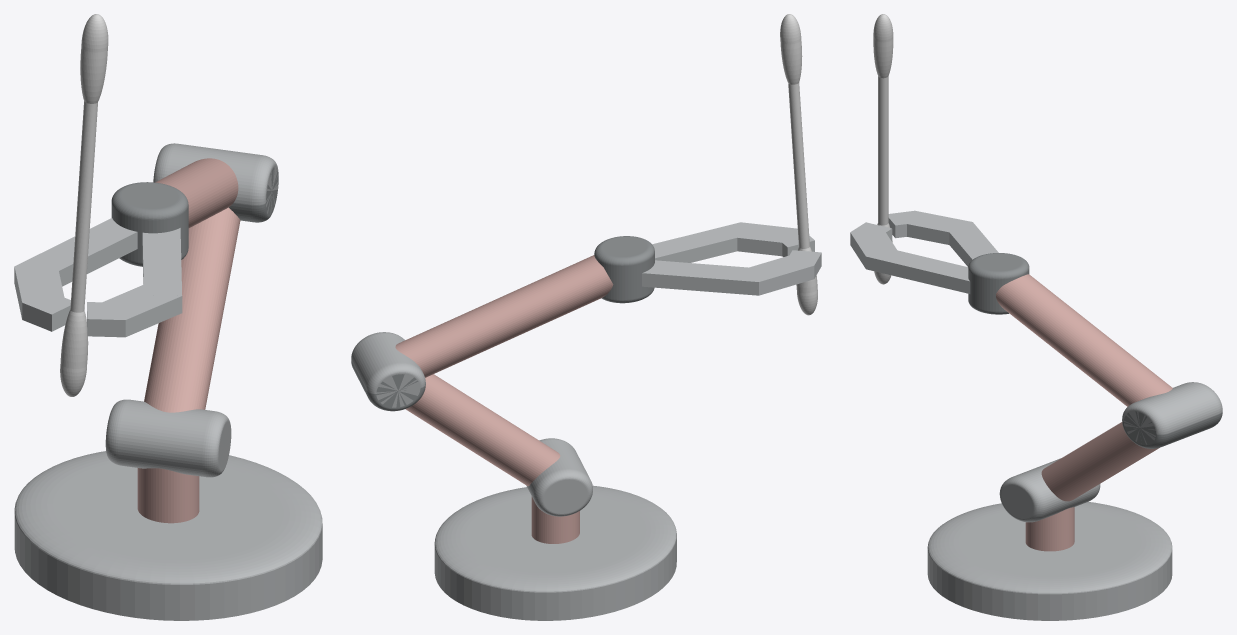
The model's file is 3D_bras.glb.
The picture shows the model from 3 angles, left to right: view 1: azimuth 30°, elevation 25°; view 2: azimuth 150°, elevation 25°; view 3: azimuth 270°, elevation 25°; orthographic projection. The views are drawn at different scales.
Visible parts, largest first — view 1: Mesh_Mesh_head_geo.001_lambert2SG.001; view 2: Mesh_Mesh_head_geo.001_lambert2SG.001; view 3: Mesh_Mesh_head_geo.001_lambert2SG.001.
Boxes of the visible parts, x1,y1,x2,y2 form: Mesh_Mesh_head_geo.001_lambert2SG.001: (14,14,322,620); Mesh_Mesh_head_geo.001_lambert2SG.001: (351,14,821,620); Mesh_Mesh_head_geo.001_lambert2SG.001: (850,14,1222,620).
Size of the model in its own units: 92 by 139 by 95.21.
